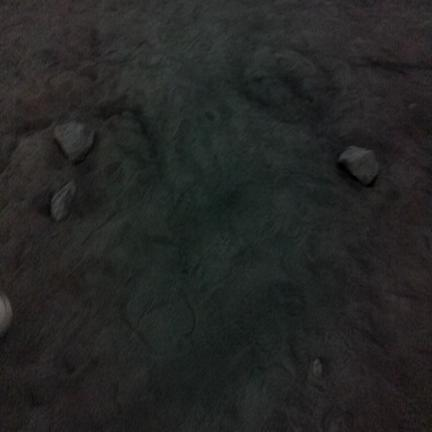Rock: (338, 146, 379, 185), (55, 122, 94, 162), (51, 181, 76, 221), (0, 293, 12, 336), (312, 358, 322, 378)
